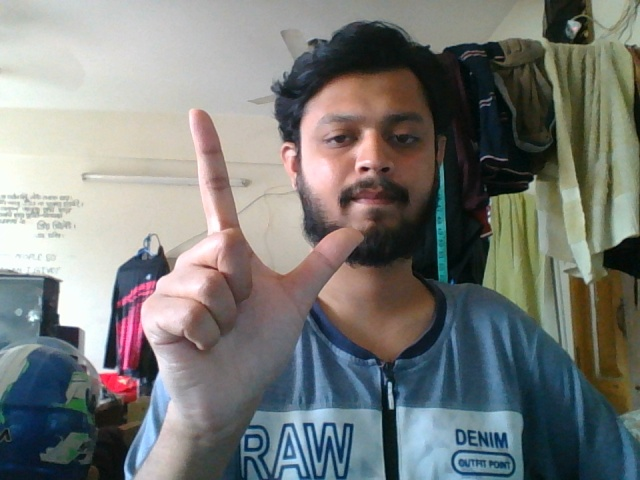la: (132, 103, 364, 435)
